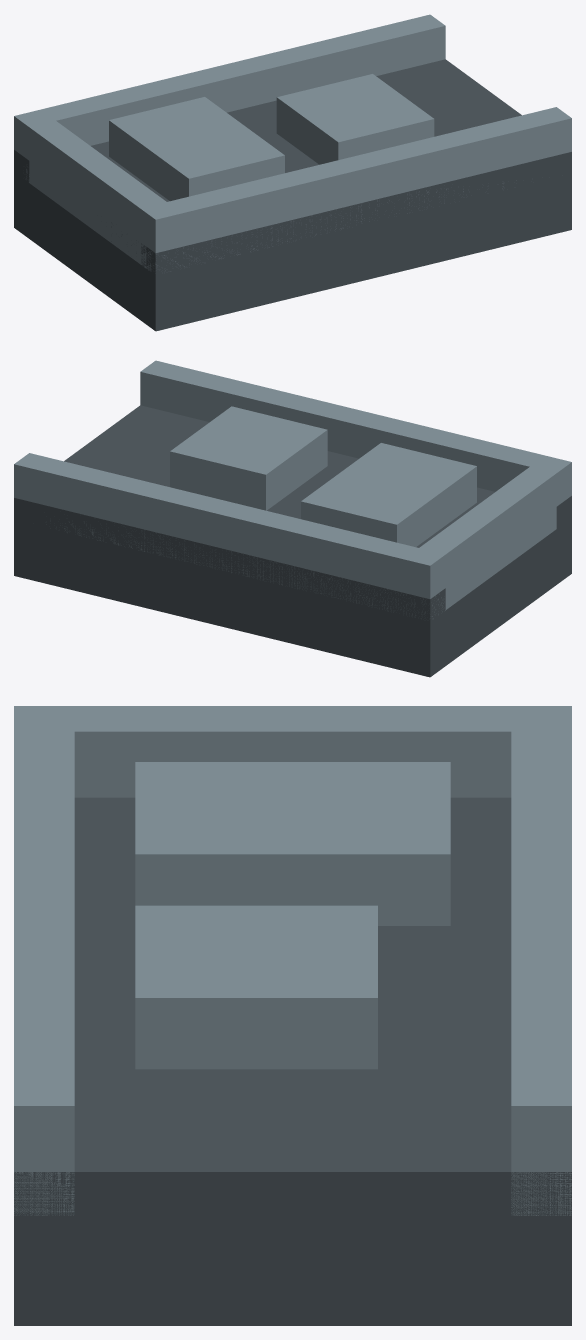
File: Identity-archive_storage_tray_low.glb
3 views of the same model, one above another, from view 1: azimuth 30°, elevation 25°; view 2: azimuth 150°, elevation 25°; view 3: azimuth 270°, elevation 25° (orthographic). The views are drawn at different scales.
Visible parts, largest first — view 1: TrayBase, TrayLipS, TrayLipN, DataCassetteA, DataCassetteB, TrayLipW; view 2: TrayBase, TrayLipN, TrayLipS, DataCassetteA, DataCassetteB, TrayLipW; view 3: TrayBase, DataCassetteA, DataCassetteB, TrayLipN, TrayLipS, TrayLipW.
Boxes of the visible parts, left/top/right/bottom form: TrayBase: left=14, top=59, right=571, bottom=331; TrayLipS: left=140, top=107, right=571, bottom=273; TrayLipN: left=14, top=14, right=445, bottom=182; DataCassetteA: left=109, top=97, right=284, bottom=201; DataCassetteB: left=276, top=74, right=434, bottom=164; TrayLipW: left=29, top=121, right=166, bottom=263; TrayBase: left=14, top=405, right=571, bottom=677; TrayLipN: left=14, top=453, right=445, bottom=618; TrayLipS: left=140, top=360, right=571, bottom=506; DataCassetteA: left=301, top=443, right=476, bottom=547; DataCassetteB: left=170, top=406, right=327, bottom=510; TrayLipW: left=419, top=467, right=556, bottom=609; TrayBase: left=14, top=797, right=571, bottom=1325; DataCassetteA: left=135, top=762, right=450, bottom=925; DataCassetteB: left=135, top=905, right=377, bottom=1069; TrayLipN: left=511, top=706, right=571, bottom=1215; TrayLipS: left=14, top=706, right=74, bottom=1215; TrayLipW: left=74, top=706, right=511, bottom=797.
Size of the model in its own units: 1.56 by 0.41 by 0.92.
